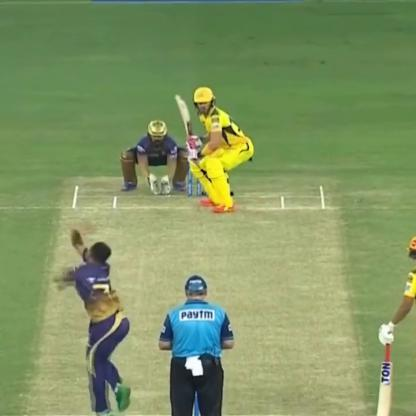ball: (49, 270, 74, 290)
bat: (170, 88, 202, 166)
pitch: (4, 182, 385, 416)
